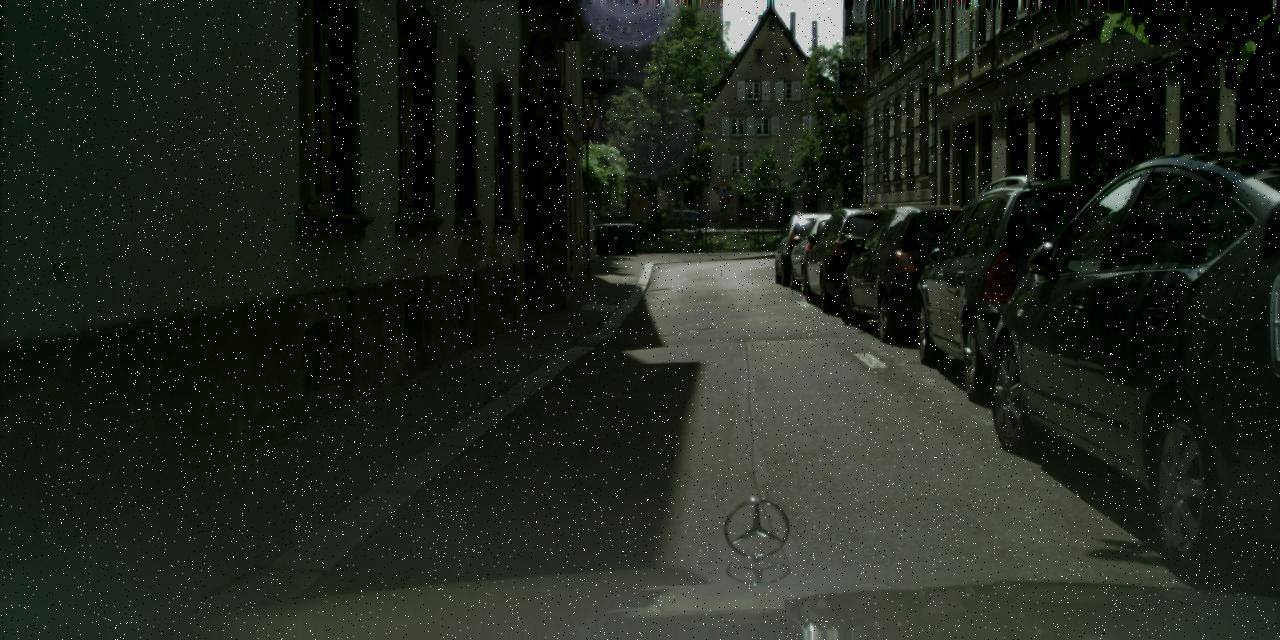ped: (653, 206, 663, 230)
